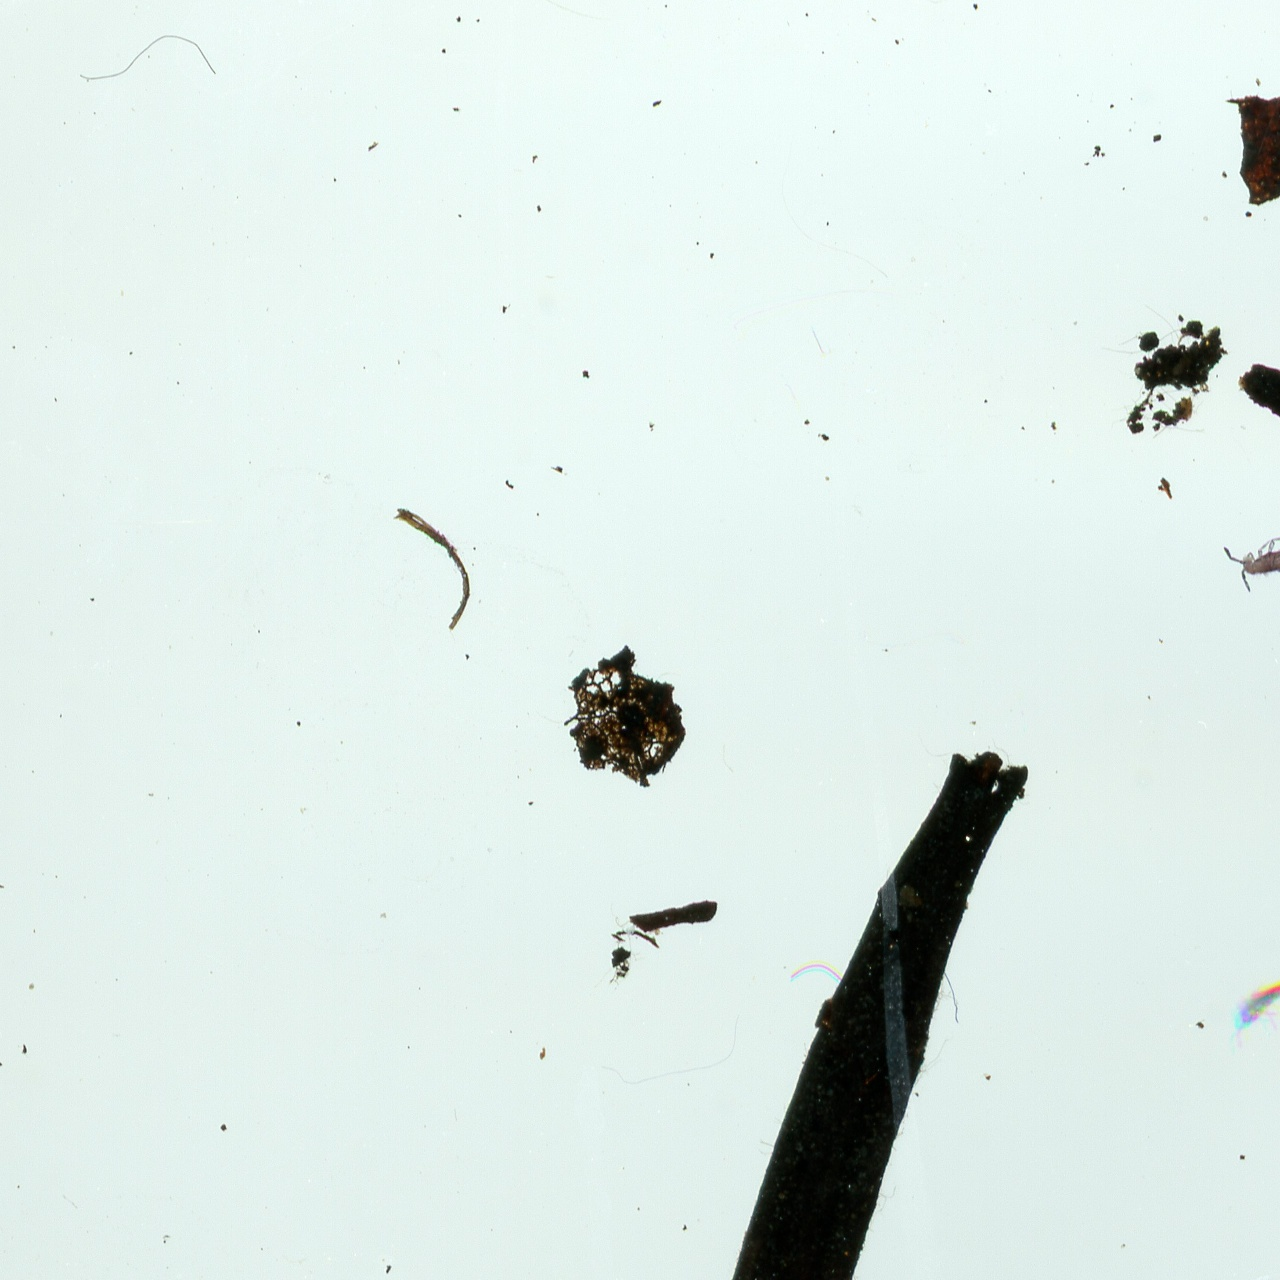arthropod: (1221, 536, 1280, 593), (1235, 982, 1280, 1047)
